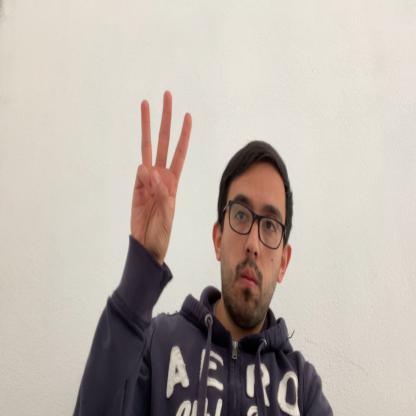W: (131, 90, 191, 265)
